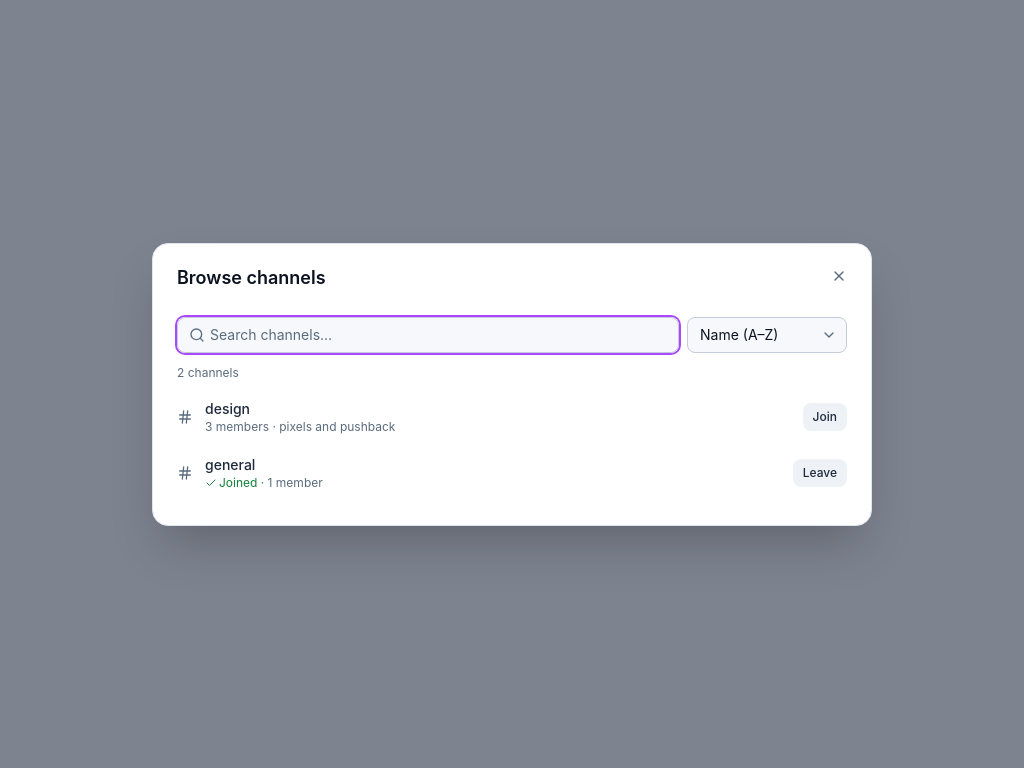
Scenario: BrowseChannelsModal › surfaces a failed join instead of closing
The image size is (1024, 768).
Step 1. Click the button with test id "browse-channel-join" → [825, 416], box [803, 402, 847, 430]
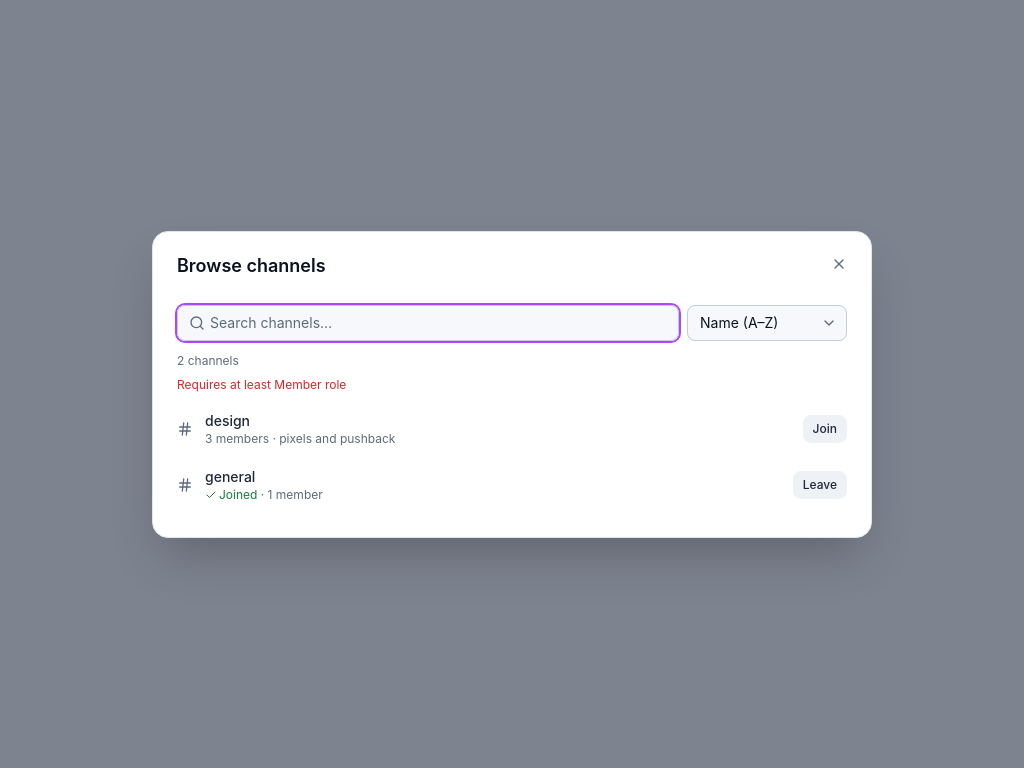
Expected: the text "Requires at least Member role" is shown, [177, 376, 346, 392]
